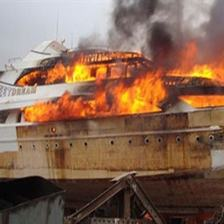fire: (22, 34, 222, 121)
